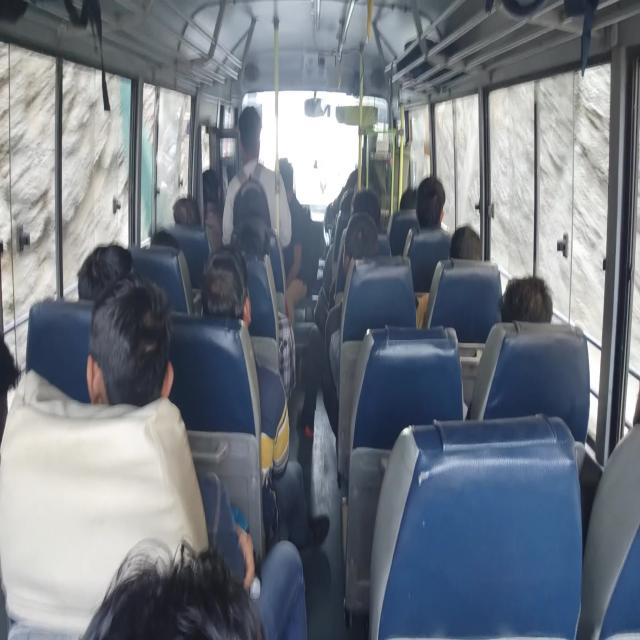person: (64, 491, 223, 640), (91, 277, 158, 398), (273, 156, 309, 276), (0, 354, 38, 456), (605, 348, 640, 453), (85, 232, 135, 292), (508, 272, 560, 322), (338, 228, 387, 276), (214, 269, 248, 320), (340, 180, 370, 237), (241, 109, 266, 171), (150, 221, 182, 267), (198, 164, 226, 215), (180, 200, 208, 247), (419, 170, 448, 212), (453, 218, 479, 260), (234, 223, 264, 253), (354, 192, 385, 219), (242, 206, 266, 234), (402, 188, 423, 215)
